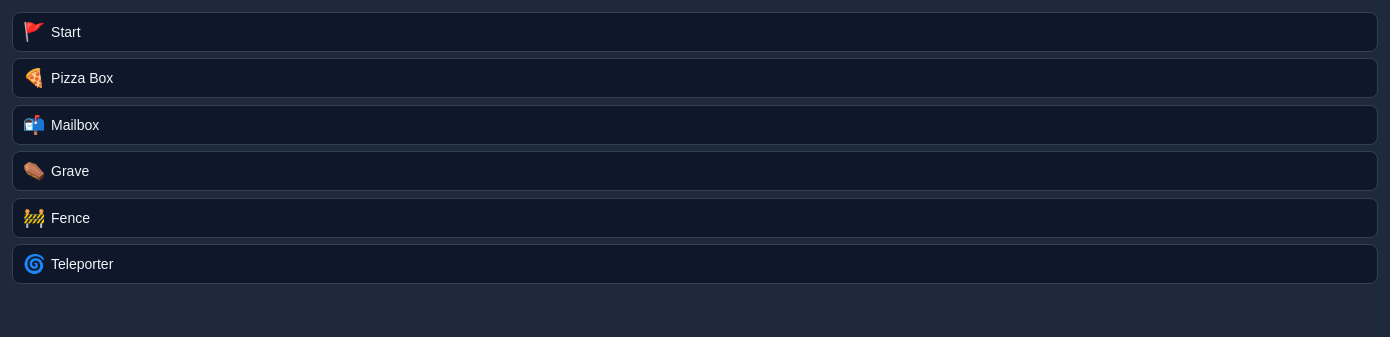
it: TilePalette › pizza expands to show variants
Click the text "Pizza Box".
click(82, 78)  # box x1=51 y1=70 x2=113 y2=86
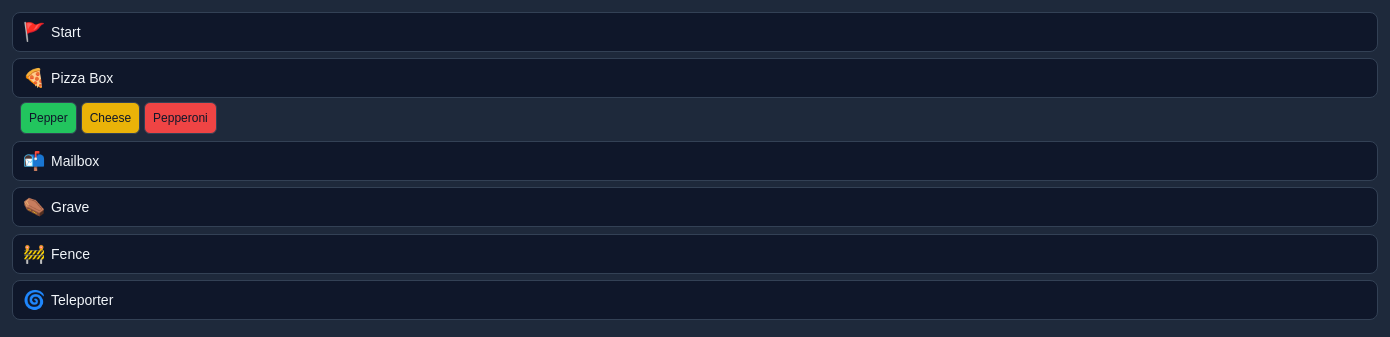
Check: the button "pepper" is shown, box x1=20 y1=102 x2=77 y2=134
Check: the button "cheese" is shown, box x1=81 y1=102 x2=140 y2=134
Check: the button "pepperoni" is shown, box x1=144 y1=102 x2=217 y2=134
